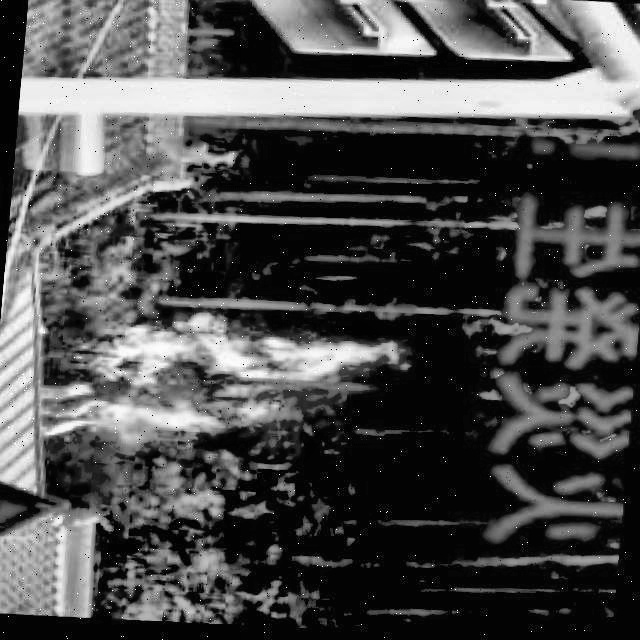Fire: (26, 281, 428, 482)
